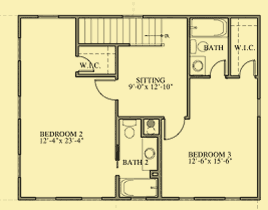door: (93, 77, 116, 101), (163, 116, 185, 141), (75, 54, 95, 73), (238, 58, 257, 77), (209, 59, 227, 77)
large_sink: (121, 119, 139, 141), (189, 39, 210, 56)
small_sink: (141, 138, 157, 169), (191, 56, 208, 74)
stairs: (78, 17, 168, 46)
tub: (189, 18, 230, 38), (118, 178, 157, 197)
